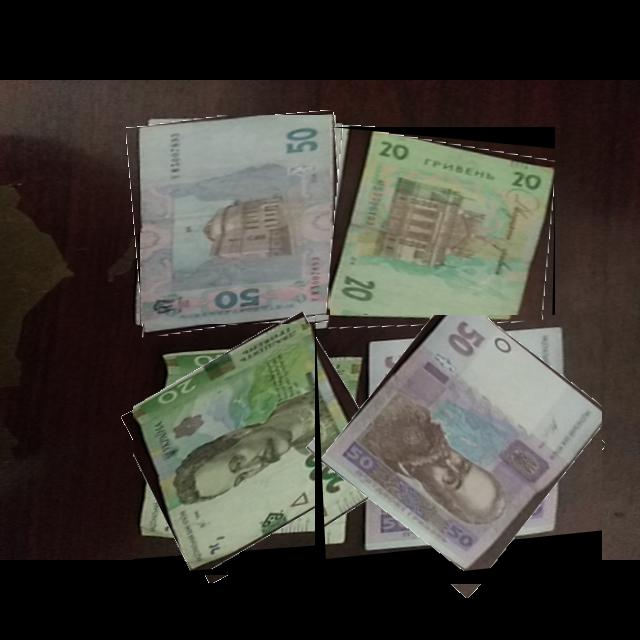20uah: (133, 324, 363, 573), (330, 131, 556, 343)
50uah: (321, 315, 603, 574), (140, 115, 335, 334)
